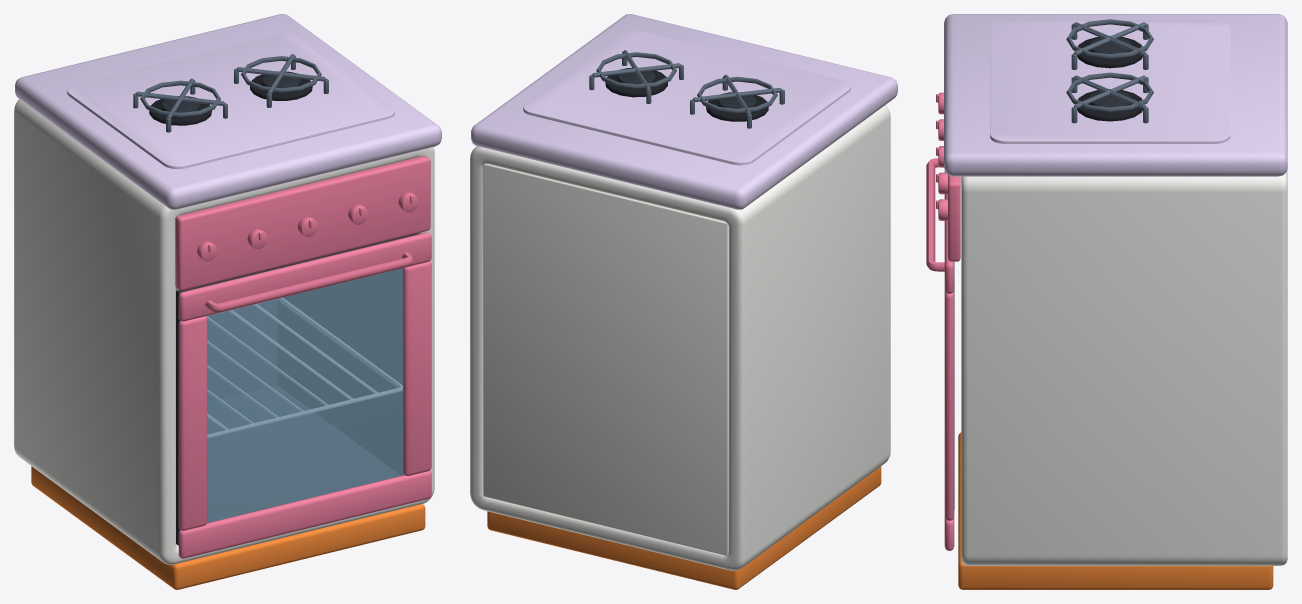
Rendered from fogao_retro_branco_rosa.glb.
The picture shows the model from 3 angles, left to right: view 1: azimuth 30°, elevation 25°; view 2: azimuth 150°, elevation 25°; view 3: azimuth 270°, elevation 25°; orthographic projection. The views are drawn at different scales.
Parts seen in each view (by area): view 1: fogao_retro_branco_rosa, porta_forno; view 2: fogao_retro_branco_rosa; view 3: fogao_retro_branco_rosa, porta_forno.
Boxes of the visible parts, bbox=[...] form: fogao_retro_branco_rosa: bbox=[14, 14, 441, 589]; porta_forno: bbox=[178, 232, 431, 558]; fogao_retro_branco_rosa: bbox=[470, 14, 897, 589]; fogao_retro_branco_rosa: bbox=[936, 14, 1287, 589]; porta_forno: bbox=[926, 158, 954, 550].
Bounding box in the file's own units: 0.6 × 0.889 × 0.631.
2 materials, 1 textured.
